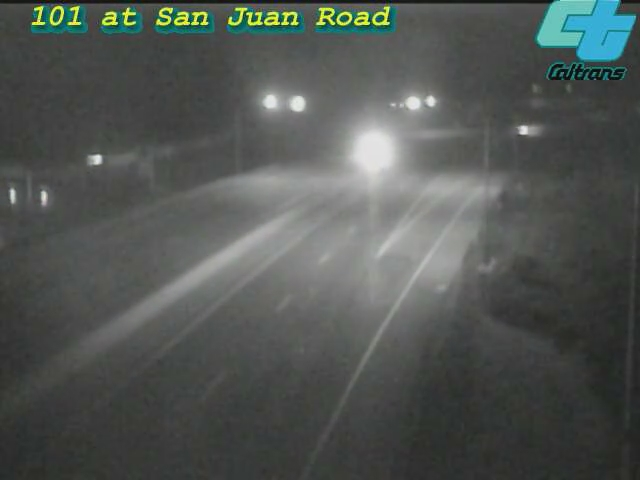vehicle: (349, 127, 399, 177), (503, 105, 553, 155)
